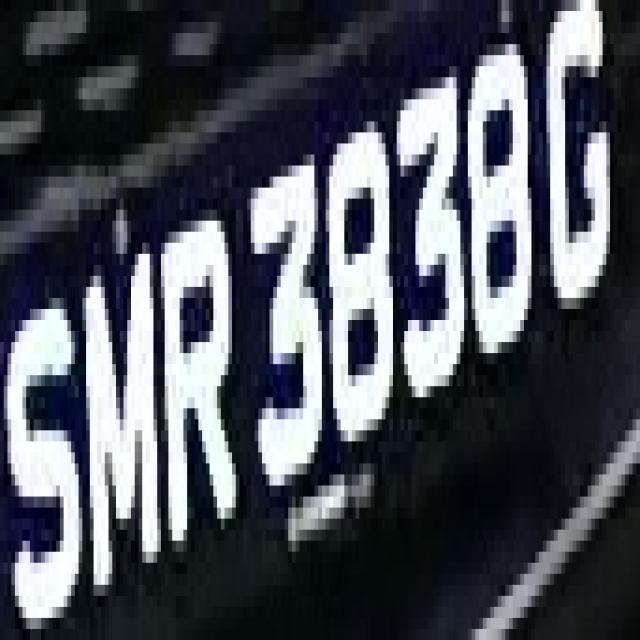3: (240, 143, 333, 508), (386, 56, 472, 430)
8: (326, 66, 389, 486), (464, 44, 535, 375)
G: (539, 11, 617, 342)
M: (75, 210, 165, 607)
R: (157, 165, 240, 607)
S: (8, 254, 82, 629)
